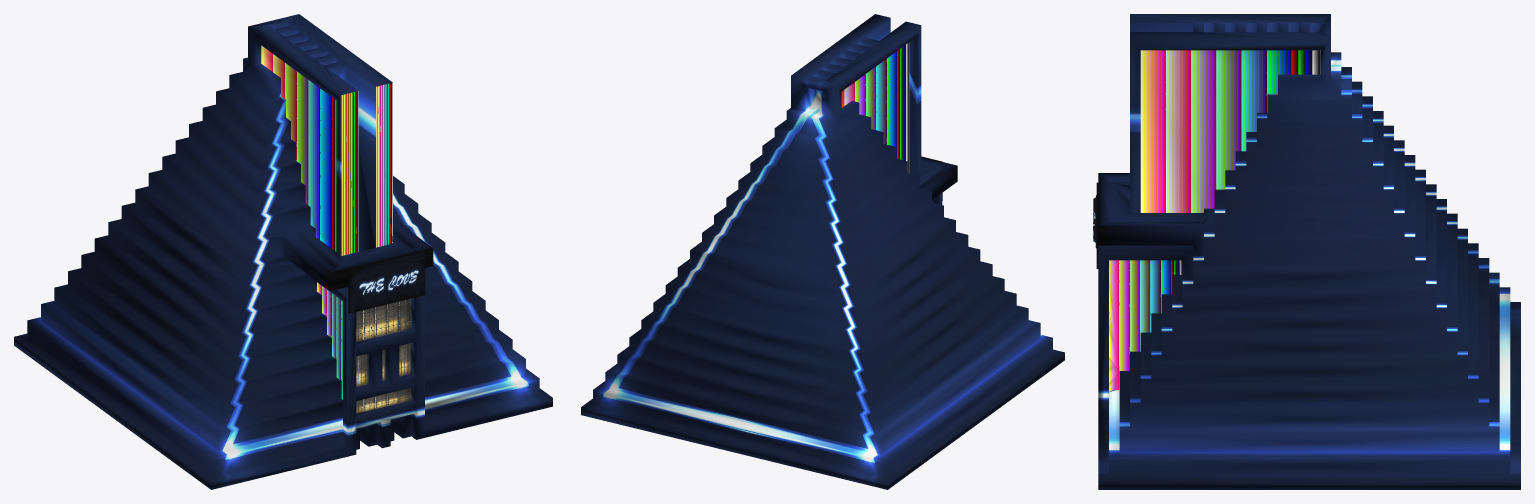
File: cove-exterior-opt1.glb
3 renders of one model, left to right at view 1: azimuth 30°, elevation 25°; view 2: azimuth 150°, elevation 25°; view 3: azimuth 270°, elevation 25°, orthographic. The views are drawn at different scales.
Parts seen in each view (by area): view 1: Object_3, Object_5, Object_4, Object_6, Object_2; view 2: Object_3, Object_5; view 3: Object_3, Object_5.
Part boxes in pixels (left/top/right/bottom): Object_3: left=14, top=14, right=552, bottom=489; Object_5: left=261, top=45, right=424, bottom=399; Object_4: left=356, top=298, right=411, bottom=413; Object_6: left=349, top=251, right=425, bottom=313; Object_2: left=331, top=248, right=433, bottom=290; Object_3: left=581, top=14, right=1064, bottom=489; Object_5: left=841, top=42, right=942, bottom=200; Object_3: left=1098, top=14, right=1520, bottom=489; Object_5: left=1096, top=50, right=1320, bottom=389.
Size of the model in its own units: 50.78 by 49.52 by 51.42.
4 materials, 4 textured.
